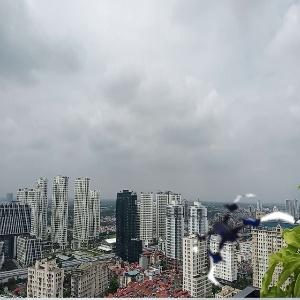drone: (182, 188, 287, 293)
